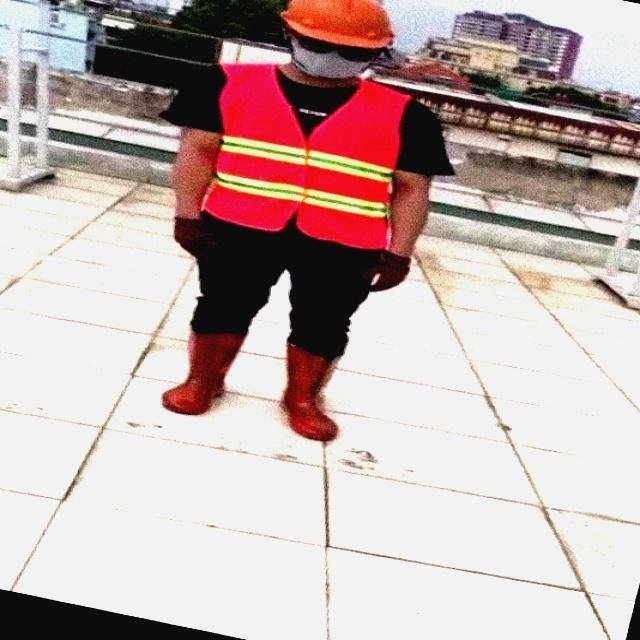Capacete: (281, 0, 393, 48)
Colete: (203, 65, 409, 248)
Oculos: (295, 35, 380, 61)
